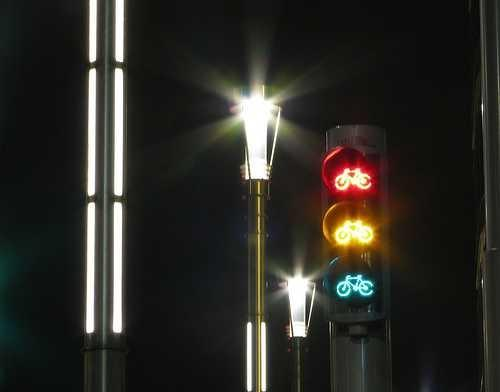green: (325, 254, 387, 312)
red: (327, 139, 378, 199)
